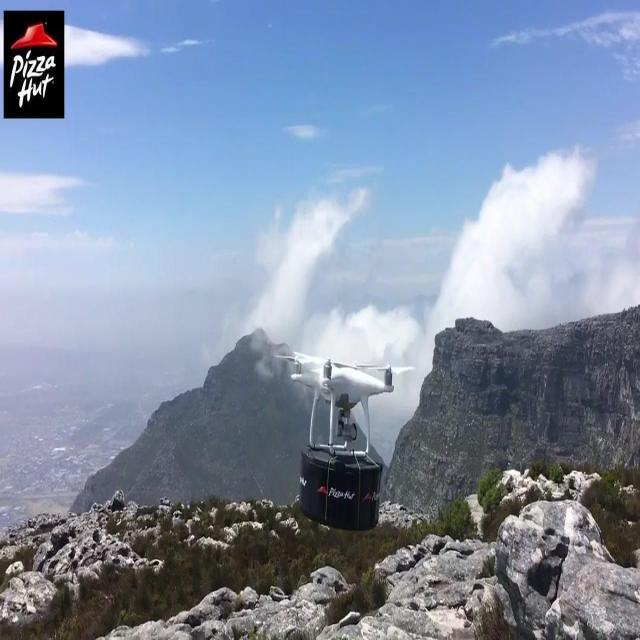UAV: (274, 351, 416, 455)
